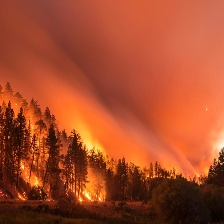fire: (77, 183, 102, 206), (18, 163, 40, 187), (16, 190, 31, 206)
smoke: (2, 3, 224, 156)
